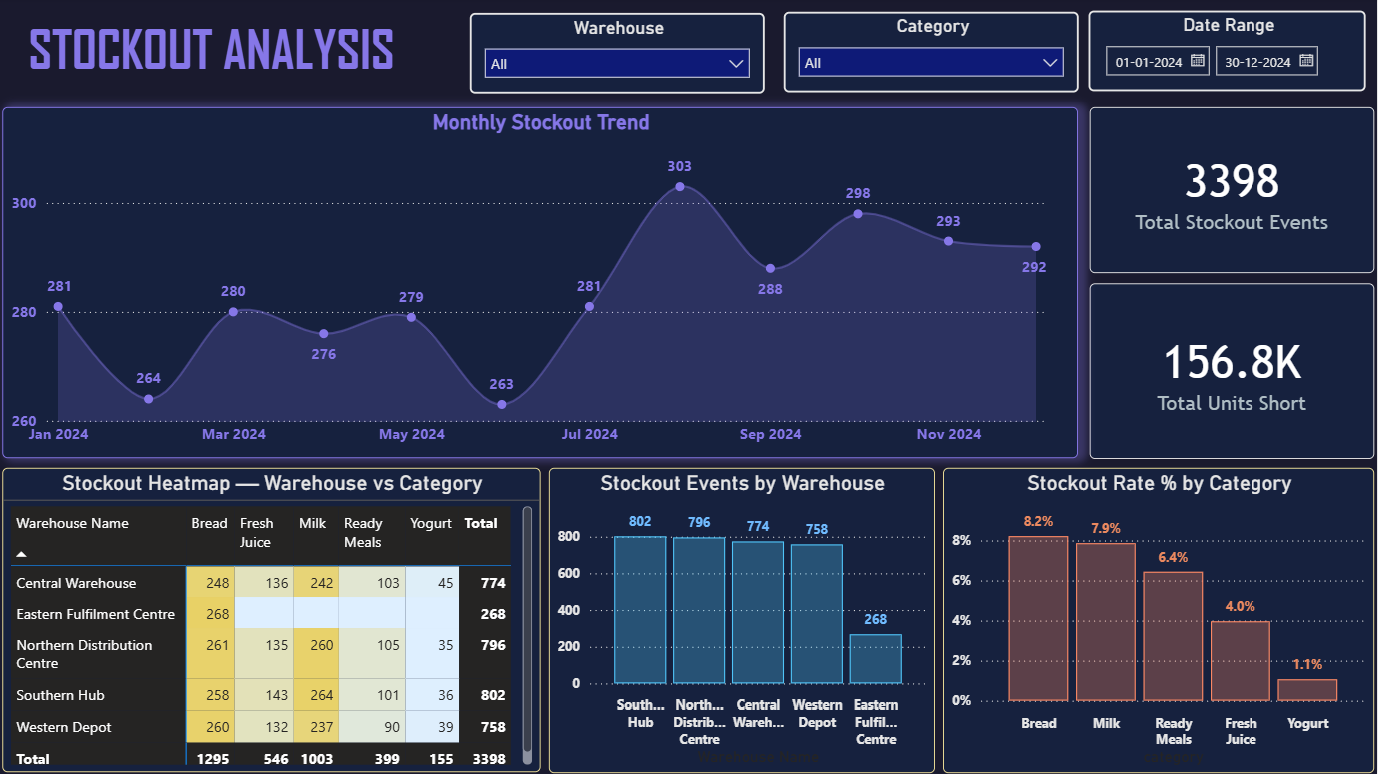

Layout of this report page (visuals, bound fields, positions):
{"tool":"powerbi","page":{"name":"Stockout Analysis","canvas":[1280,720],"ordinal":2},"visuals":[{"type":"columnChart","title":"Stockout Rate % by Category","fields":{"Category":["dim_products.category"],"Y":["_Measures.Stockout Rate %"]},"box":[876,436.4,401.3,283.1],"z":0},{"type":"card","fields":{"Values":["_Measures.Total Units Short"]},"box":[1012.3,265,265,162.9],"z":1000},{"type":"lineChart","title":"Monthly Stockout Trend","fields":{"Category":["fact_stockout_events.stockout_date.Variation.Date Hierarchy.Year","fact_stockout_events.stockout_date.Variation.Date Hierarchy.Quarter","fact_stockout_events.stockout_date.Variation.Date Hierarchy.Month"],"Y":["_Measures.Total Stockout Events"]},"box":[2.1,101.1,999.5,326.8],"z":2000},{"type":"textbox","box":[21.3,13.8,361.9,72.4],"z":3000},{"type":"card","fields":{"Values":["_Measures.Total Stockout Events"]},"box":[1012.3,101.1,265,154.3],"z":4000},{"type":"columnChart","title":"Stockout Events by Warehouse","fields":{"Category":["dim_warehouses.warehouse_name"],"Y":["_Measures.Total Stockout Events"]},"box":[509.9,436.4,358.7,283.1],"z":5000},{"type":"pivotTable","title":"Stockout Heatmap — Warehouse vs Category","fields":{"Rows":["dim_warehouses.warehouse_name"],"Columns":["dim_products.category"],"Values":["_Measures.Total Stockout Events"]},"box":[2.1,436.4,500.3,282.1],"z":6000},{"type":"slicer","title":"Warehouse","fields":{"Values":["dim_warehouses.Warehouse Name"]},"box":[436.2,14.2,274,74.8],"z":7000},{"type":"slicer","title":"Category","fields":{"Values":["dim_products.category"]},"box":[728,13.1,274,74.8],"z":8000},{"type":"slicer","title":"Date Range","fields":{"Values":["fact_sales.sale_date"]},"box":[1011.6,12.1,258.5,74.8],"z":9000}]}

Visuals, with their boxes in screenshot pixels (x1, y1, x2, y2), scaled from the page's 1280x720 canvas onto the 1378x774 screenshot:
"Stockout Rate % by Category" columnChart: [943,469,1375,773]
card - _Measures.Total Units Short: [1090,285,1375,460]
"Monthly Stockout Trend" lineChart: [2,109,1078,460]
textbox: [23,15,413,93]
card - _Measures.Total Stockout Events: [1090,109,1375,275]
"Stockout Events by Warehouse" columnChart: [549,469,935,773]
"Stockout Heatmap — Warehouse vs Category" pivotTable: [2,469,541,772]
"Warehouse" slicer: [470,15,765,96]
"Category" slicer: [784,14,1079,94]
"Date Range" slicer: [1089,13,1367,93]
